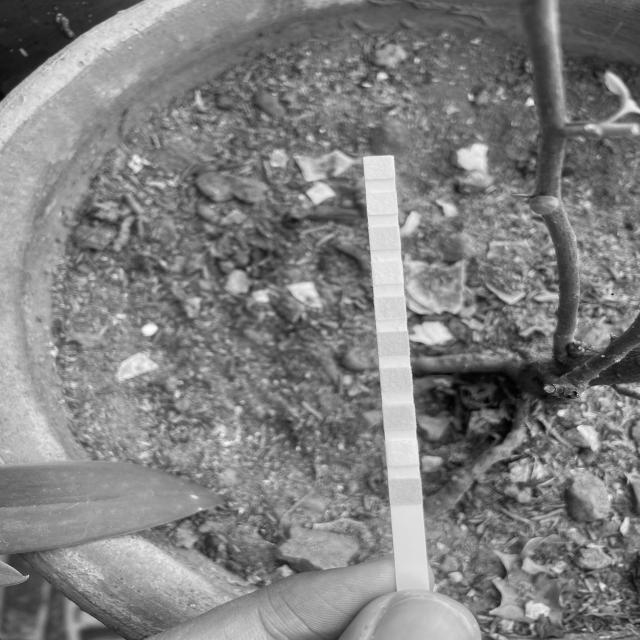Bilirubin: (388, 441, 416, 465)
Blood: (378, 332, 406, 355)
Glucose: (390, 478, 421, 504)
Ketone: (385, 405, 414, 429)
Leukocytes: (366, 157, 393, 178)
Nitrite: (369, 193, 395, 214)
Protein: (374, 262, 401, 284)
SpGravity: (382, 368, 410, 391)
Urobilinogen: (371, 227, 399, 249)
background: (0, 0, 640, 640)
pH: (376, 298, 404, 319)
strip: (362, 156, 429, 588)
